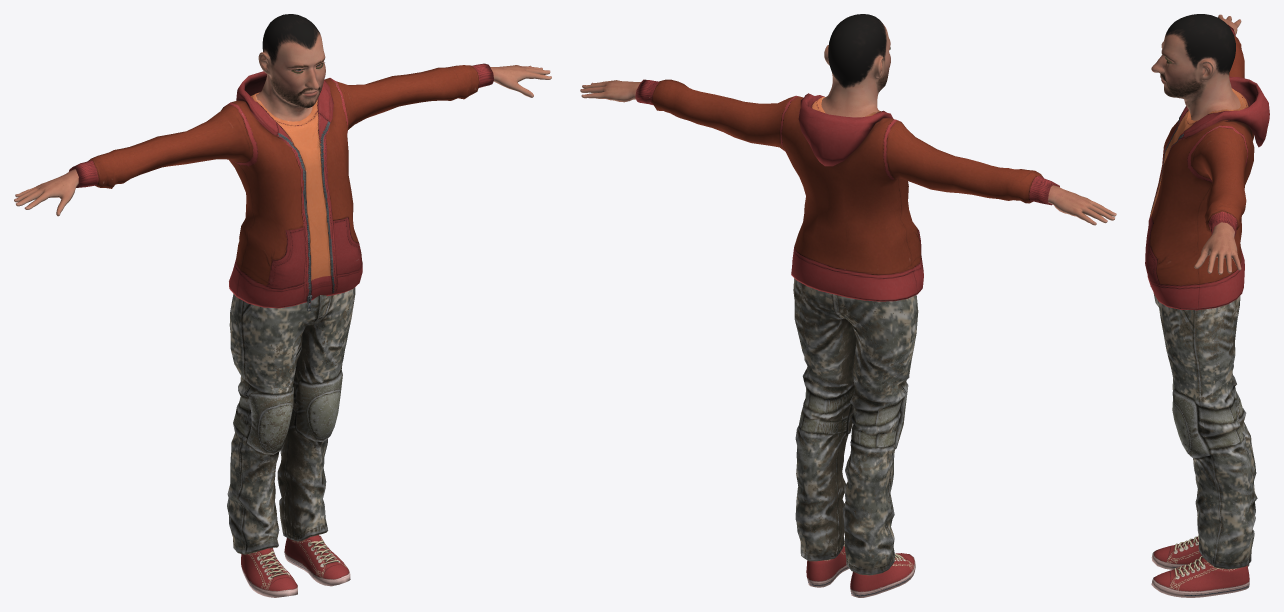
File: model_czlek.obj
3 views of the same model, side by side, from view 1: azimuth 30°, elevation 25°; view 2: azimuth 150°, elevation 25°; view 3: azimuth 270°, elevation 25° (orthographic).
Visible parts, largest first — view 1: Tops, Bottoms, Body, Shoes; view 2: Tops, Bottoms, Body, Shoes; view 3: Tops, Bottoms, Body, Shoes.
Boxes of the visible parts, box(x1,y1,x2,y2) form: Tops: box(69, 63, 493, 311); Bottoms: box(227, 287, 355, 554); Body: box(14, 14, 551, 216); Shoes: box(241, 535, 350, 597); Tops: box(635, 79, 1059, 301); Bottoms: box(793, 278, 918, 575); Body: box(580, 14, 1116, 225); Shoes: box(806, 541, 915, 597); Tops: box(1145, 25, 1269, 310); Bottoms: box(1153, 293, 1257, 569); Body: box(1151, 14, 1241, 274); Shoes: box(1151, 535, 1249, 597).
Size of the model in its own units: 179 by 179 by 36.21.
4 materials, 4 textured.
